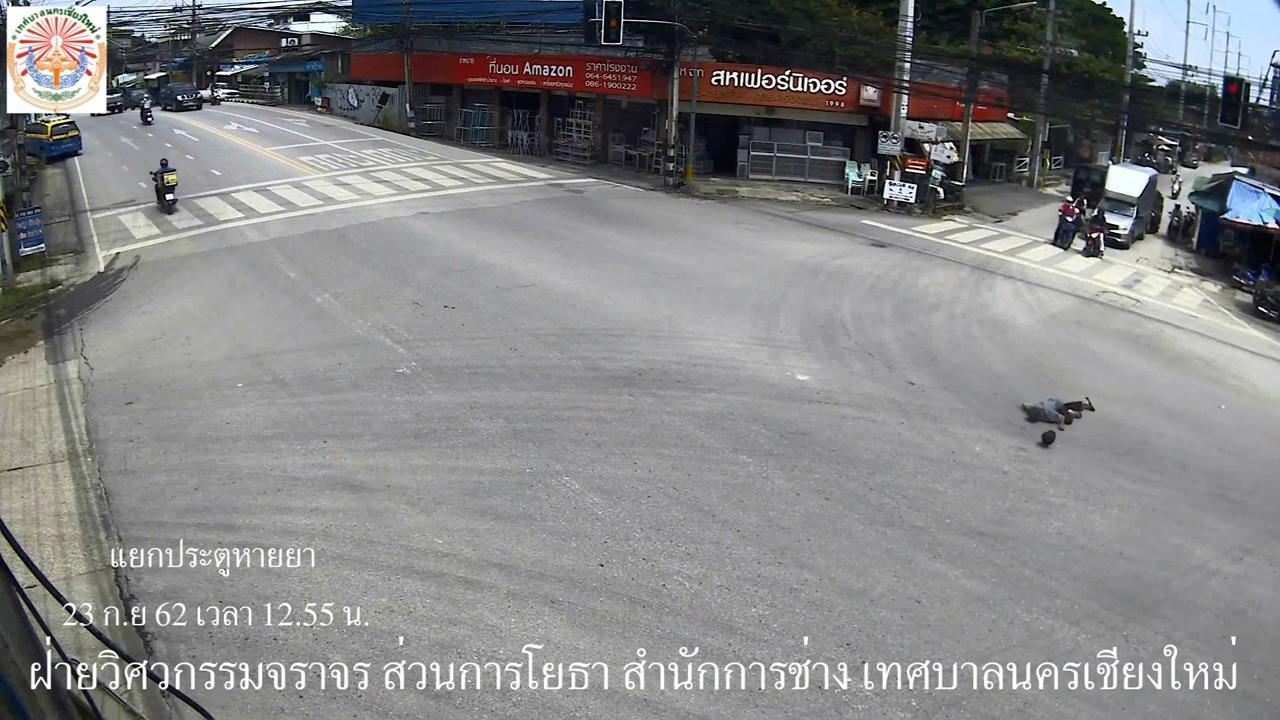accident: (1007, 392, 1098, 434)
